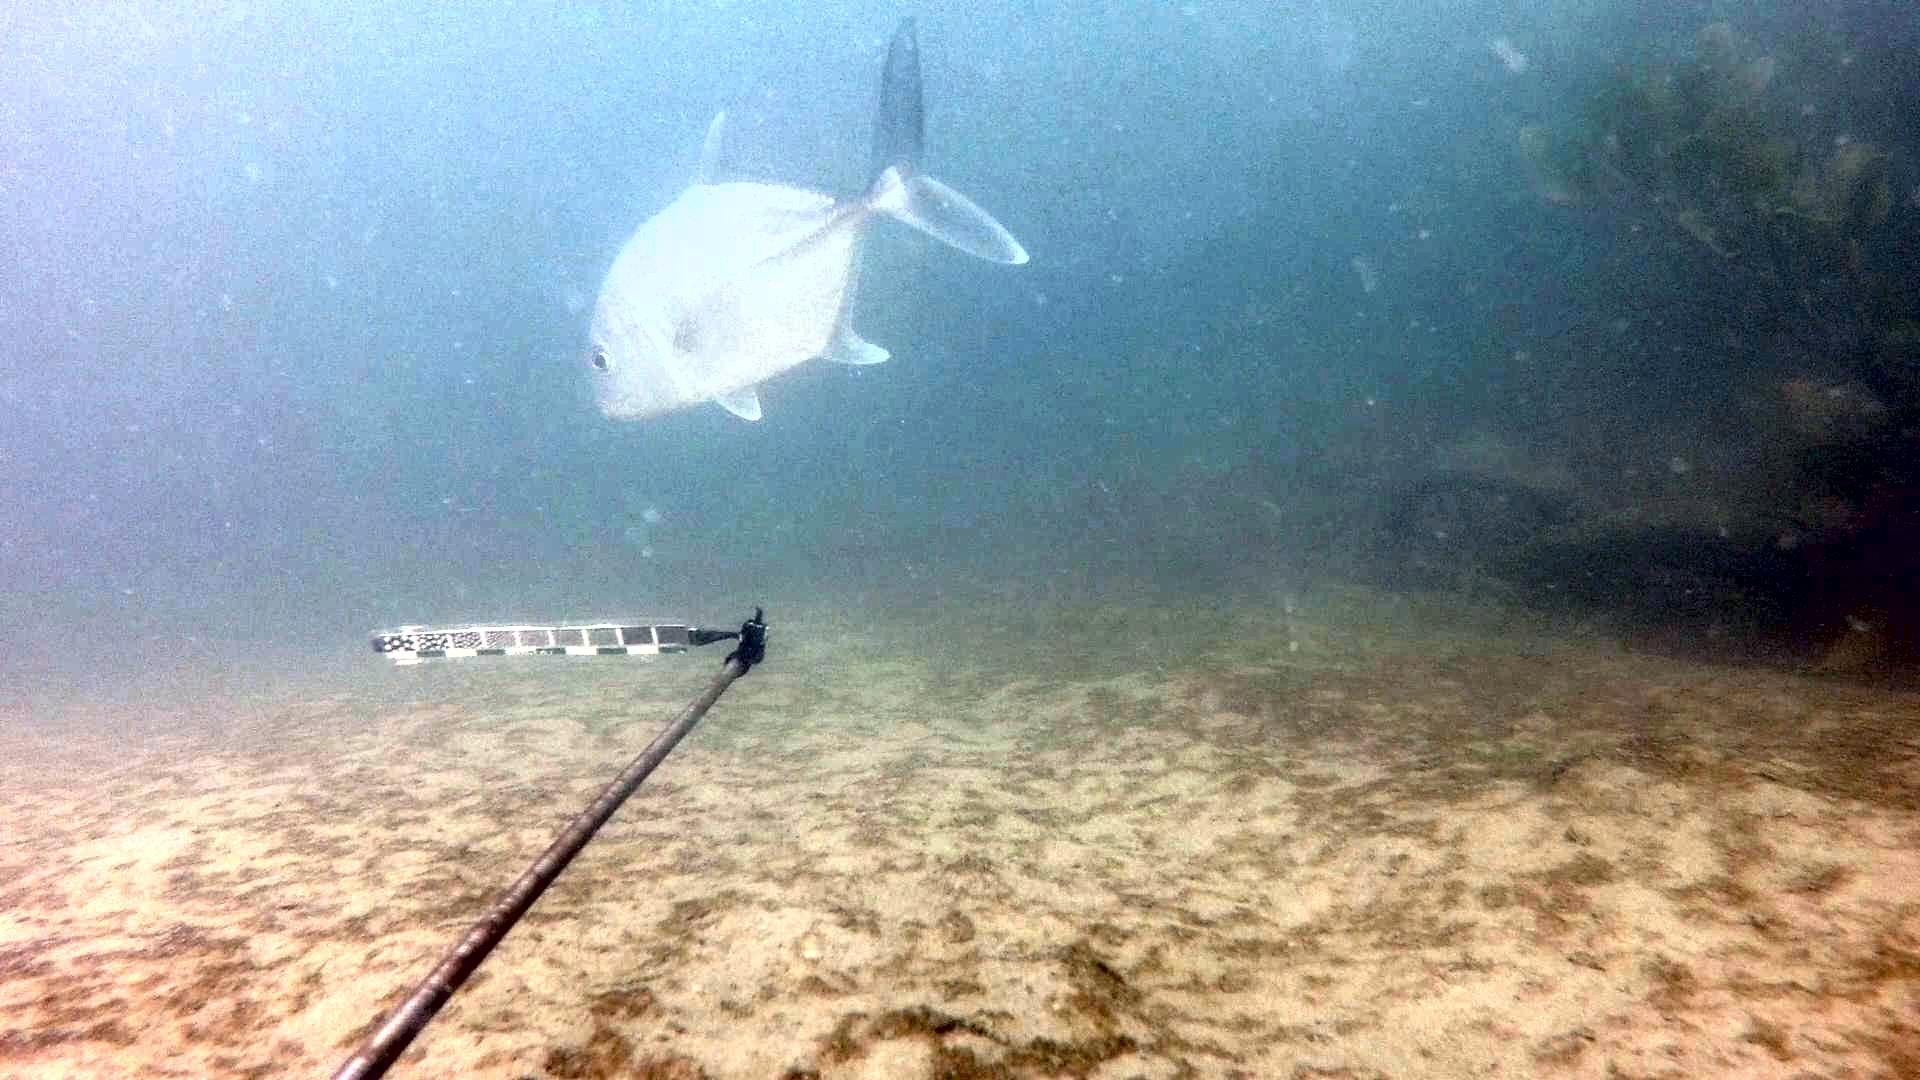caranx: (579, 10, 1035, 434)
